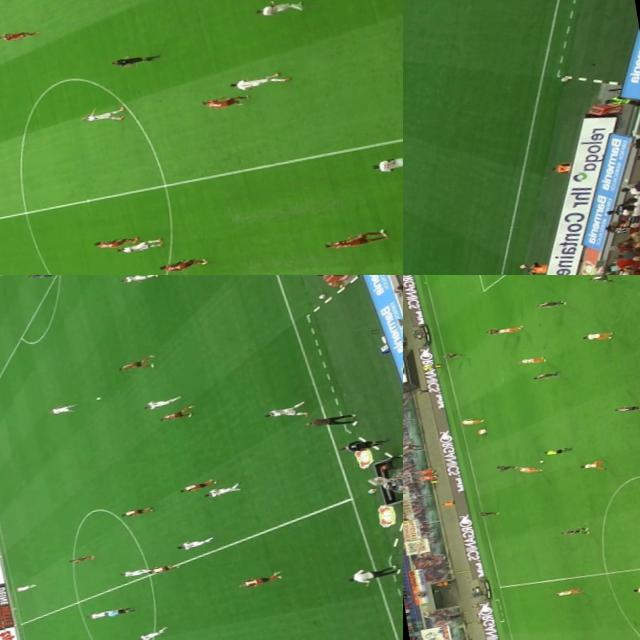ball: (90, 395, 104, 403), (536, 460, 545, 464)
player: (229, 70, 287, 94), (322, 231, 386, 249), (199, 92, 250, 112), (90, 234, 143, 252), (156, 257, 208, 275), (76, 108, 124, 126), (368, 149, 403, 173), (114, 238, 163, 255), (255, 0, 304, 16), (236, 573, 281, 590), (258, 406, 305, 420), (0, 26, 35, 44), (143, 396, 184, 411), (115, 356, 152, 372), (175, 537, 216, 551), (202, 484, 239, 499), (178, 480, 217, 493), (156, 410, 192, 424), (118, 504, 153, 518), (46, 402, 76, 418), (580, 330, 614, 344), (135, 628, 172, 640), (558, 526, 592, 538), (146, 562, 179, 574), (580, 460, 608, 474), (517, 463, 543, 477), (496, 324, 526, 336), (585, 275, 617, 286), (119, 275, 158, 284), (613, 402, 640, 415), (119, 567, 148, 579), (515, 356, 548, 366), (484, 326, 511, 338), (534, 300, 566, 310), (494, 462, 520, 474), (531, 371, 561, 381), (456, 416, 486, 426), (82, 610, 111, 620), (554, 588, 582, 598), (67, 554, 94, 564), (12, 582, 38, 592), (474, 508, 500, 518), (441, 351, 466, 361), (26, 275, 51, 282), (631, 582, 640, 595), (474, 428, 488, 436)
